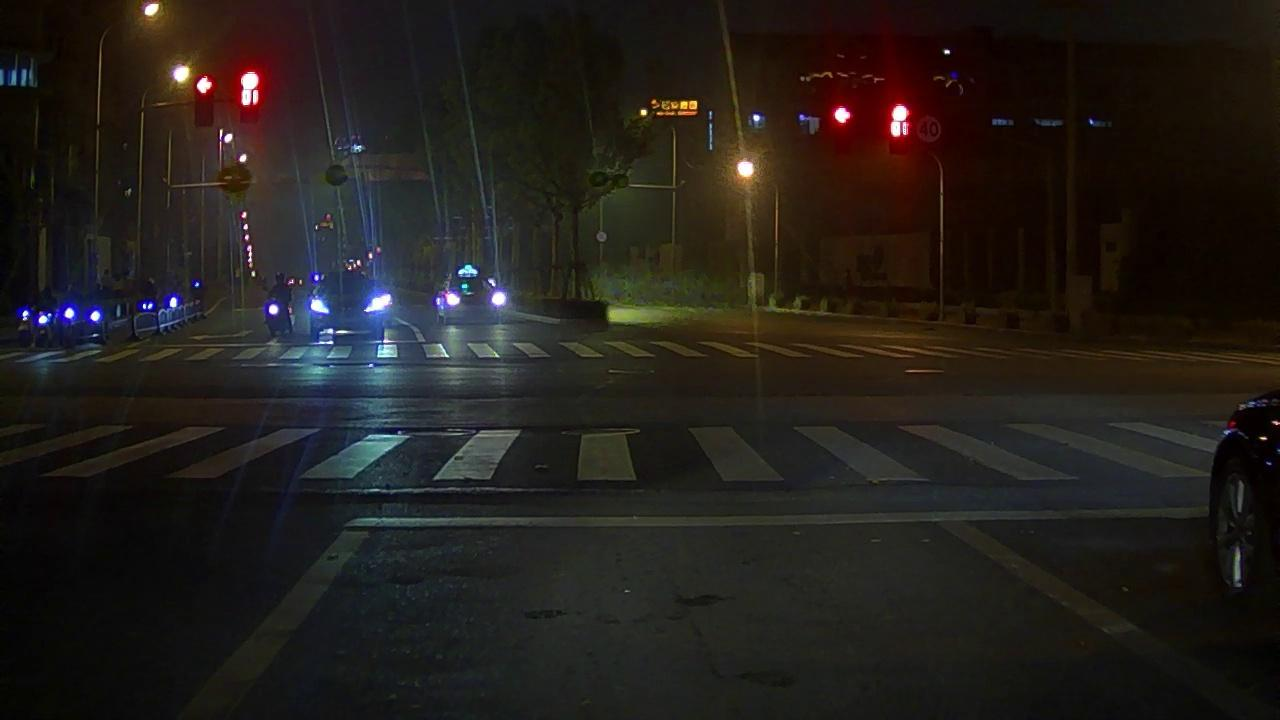traffic_light: (240, 68, 260, 122), (889, 99, 908, 153), (194, 76, 212, 126), (833, 106, 852, 125)
